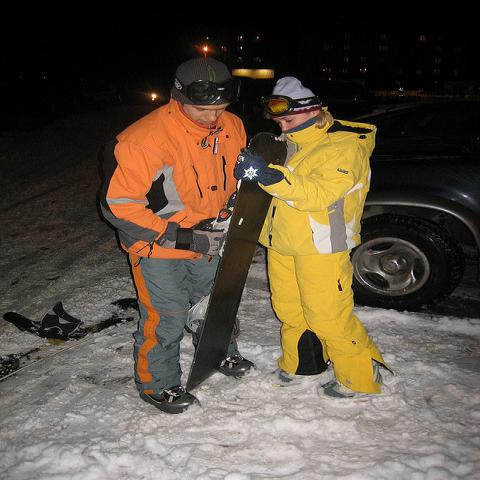car: (349, 94, 479, 314)
